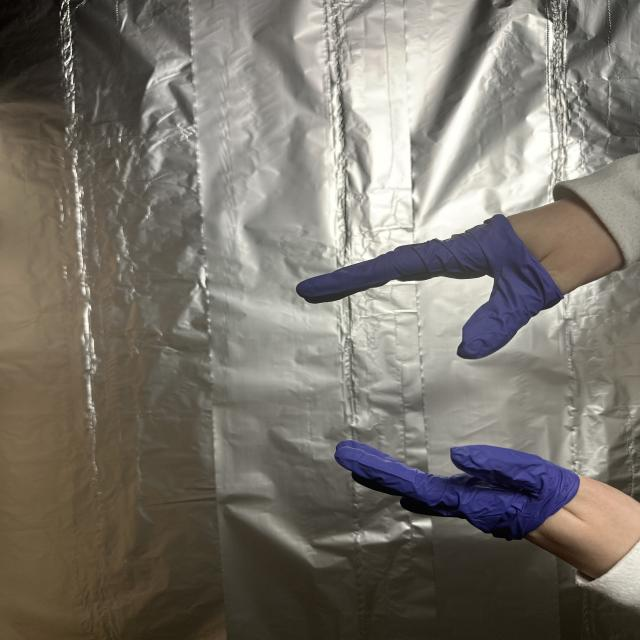glove_partial: (296, 197, 626, 363), (328, 433, 640, 582)
